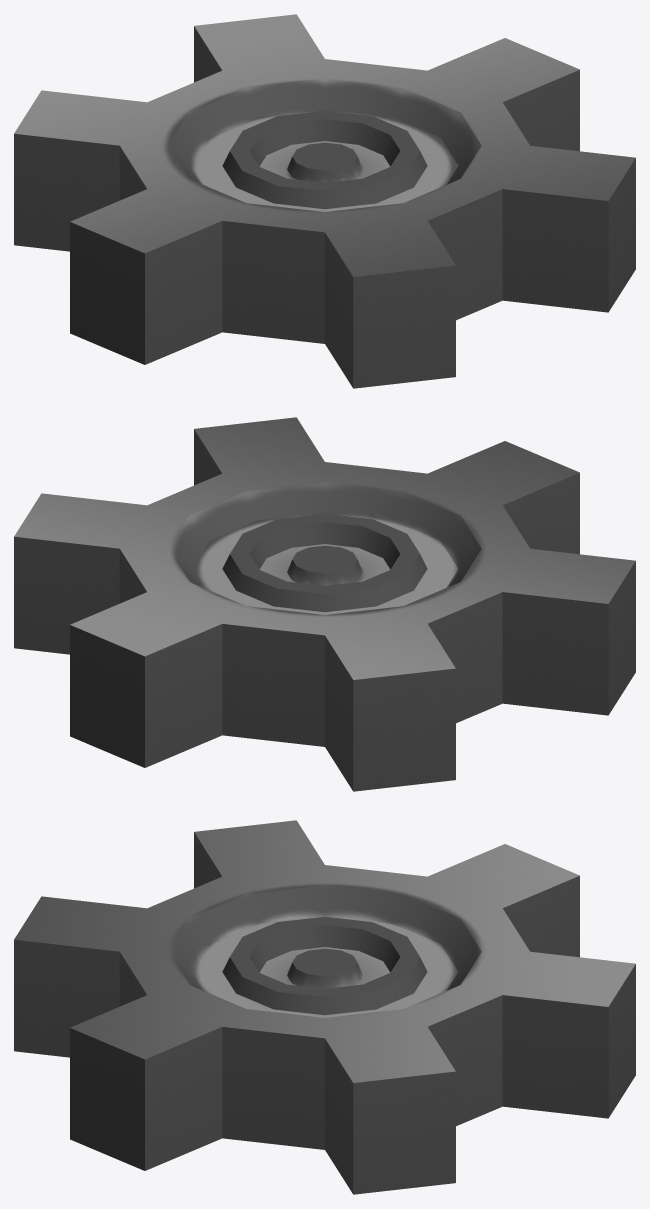
The model's file is Gear.fbx.
The picture shows the model from 3 angles, top to bottom: view 1: azimuth 30°, elevation 25°; view 2: azimuth 150°, elevation 25°; view 3: azimuth 270°, elevation 25°; orthographic projection.
Parts seen in each view (by area): view 1: Cylinder; view 2: Cylinder; view 3: Cylinder.
Part boxes in pixels (left/top/right/bottom): Cylinder: left=14, top=14, right=635, bottom=388; Cylinder: left=14, top=417, right=635, bottom=791; Cylinder: left=14, top=820, right=635, bottom=1194.
Bounding box in the file's own units: 303 × 60 × 303.
